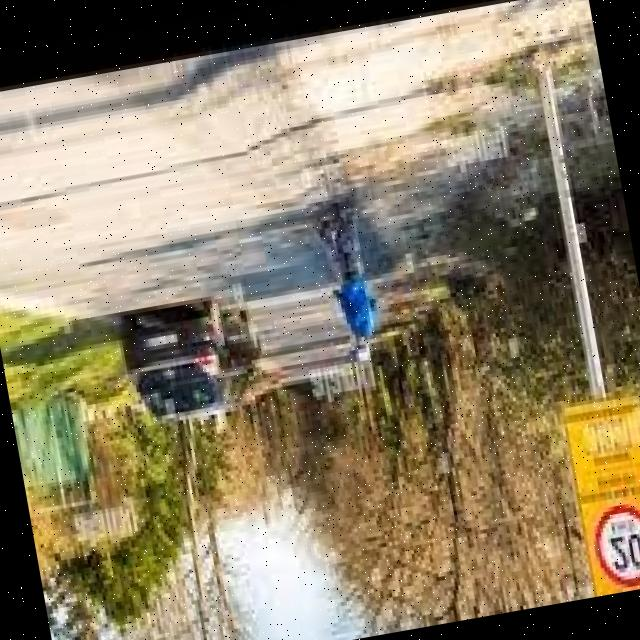speed_limit_20: (587, 496, 640, 595)
